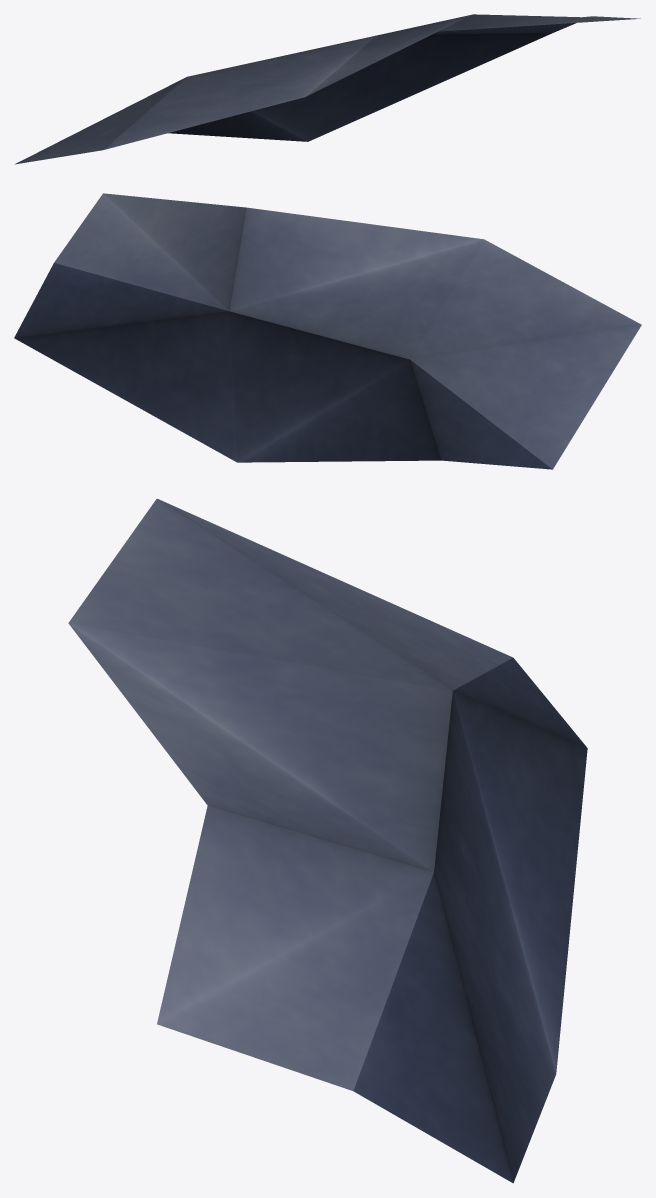
File: SM_Ceiling_Edge_C_A.fbx
3 views of the same model, one above another, from view 1: azimuth 30°, elevation 25°; view 2: azimuth 150°, elevation 25°; view 3: azimuth 270°, elevation 25° (orthographic). The views are drawn at different scales.
Parts seen in each view (by area): view 1: pCube200; view 2: pCube200; view 3: pCube200.
Part boxes in pixels (<box>): pCube200: <box>15,14,640,164</box>; pCube200: <box>14,193,641,469</box>; pCube200: <box>68,498,587,1183</box>.
Size of the model in its own units: 1 by 0.3056 by 0.4173.
